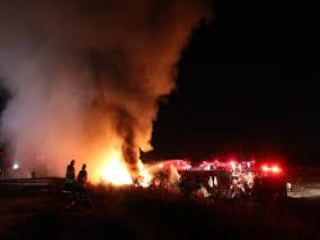smoke: (10, 57, 106, 178), (100, 18, 179, 152)
